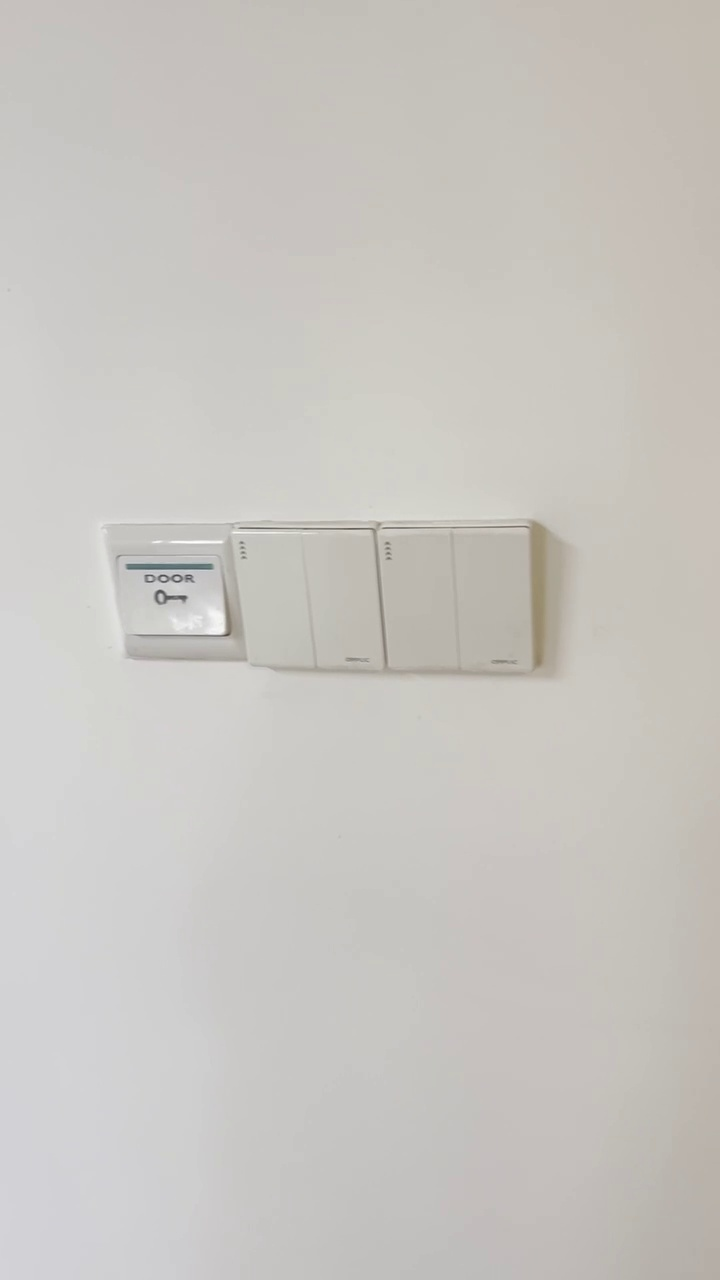button: (374, 518, 543, 675), (230, 520, 387, 669)
